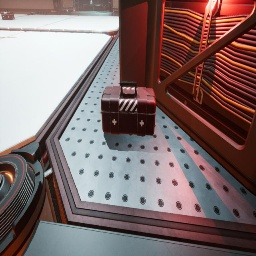FirstAidBox ,: (101, 81, 156, 136), (1, 9, 15, 20)
